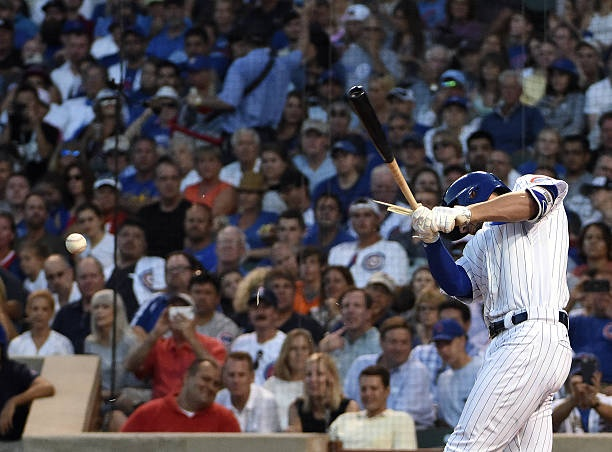bita: (342, 83, 419, 213)
